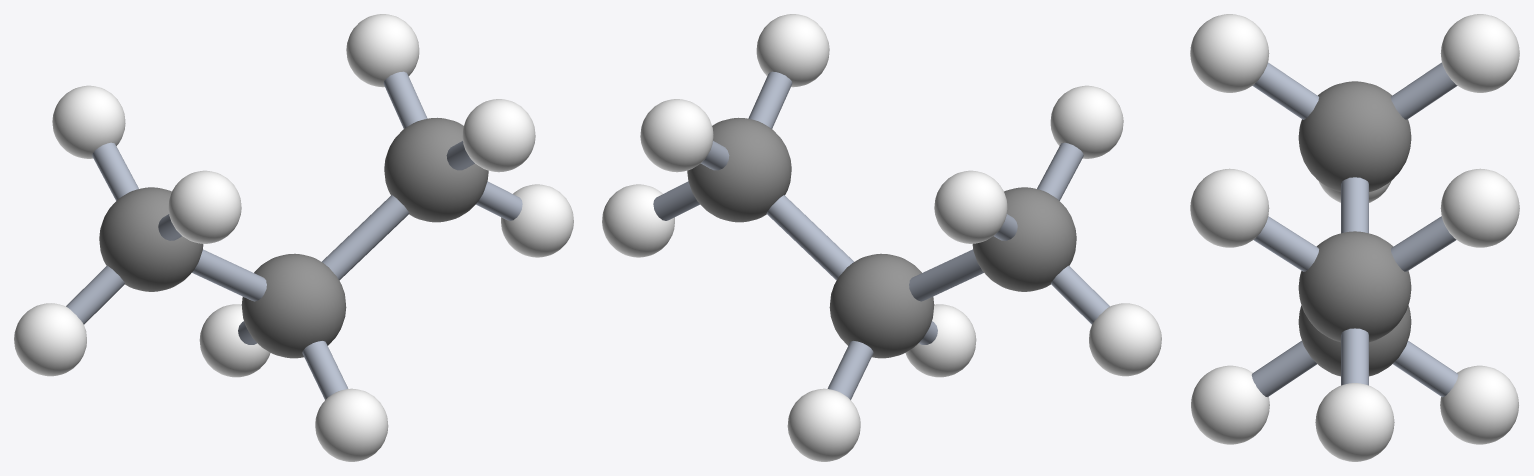
The model's file is propane.glb.
The picture shows the model from 3 angles, left to right: view 1: azimuth 30°, elevation 25°; view 2: azimuth 150°, elevation 25°; view 3: azimuth 270°, elevation 25°; orthographic projection. The views are drawn at different scales.
Parts seen in each view (by area): view 1: H (×8), C (×3), bond (×7); view 2: H (×8), C (×3), bond (×7); view 3: H (×8), C (×3), bond (×8).
Boxes of the visible parts, x1,y1,x2,y2 form: H (×8): [14, 14, 573, 461]; C (×3): [99, 117, 488, 358]; bond (×7): [66, 71, 522, 399]; H (×8): [602, 14, 1161, 461]; C (×3): [687, 117, 1076, 358]; bond (×7): [653, 71, 1109, 399]; H (×8): [1190, 14, 1519, 461]; C (×3): [1298, 81, 1411, 376]; bond (×8): [1251, 62, 1458, 397].
Size of the model in its own units: 0.22 by 0.1225 by 0.1058.
